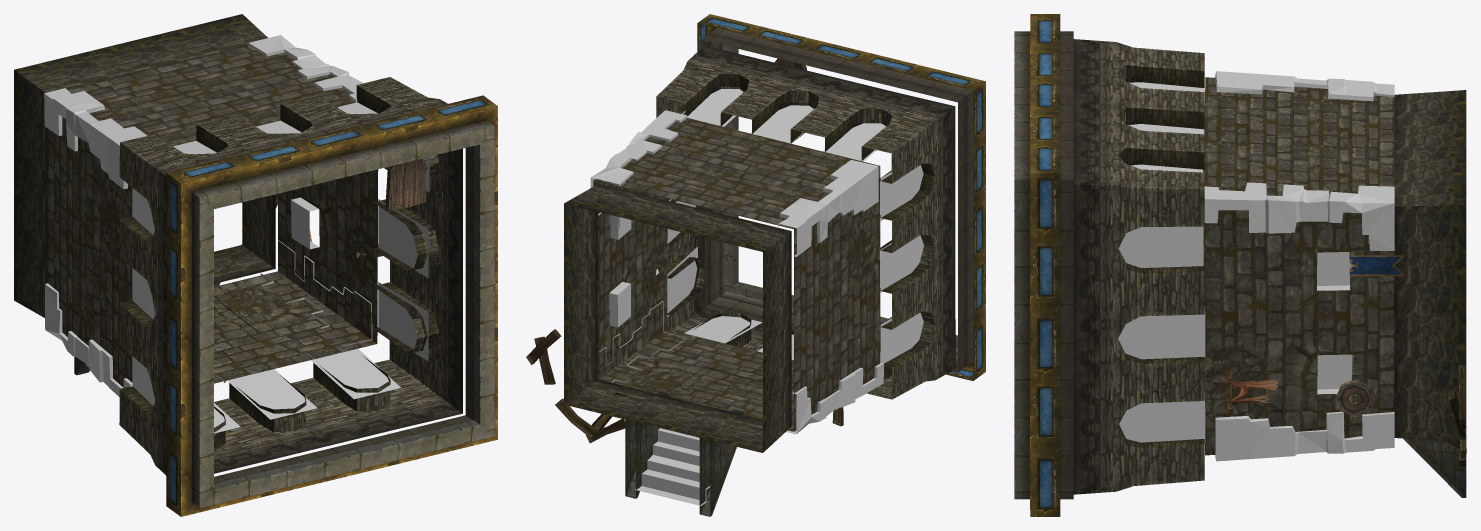
Rendered from juqing_yewai_564_zhucheng03.obj.
The picture shows the model from 3 angles, left to right: view 1: azimuth 30°, elevation 25°; view 2: azimuth 150°, elevation 25°; view 3: azimuth 270°, elevation 25°; orthographic projection. The views are drawn at different scales.
Parts seen in each view (by area): view 1: juqing_yewai_564_zhucheng03; view 2: juqing_yewai_564_zhucheng03; view 3: juqing_yewai_564_zhucheng03.
Part boxes in pixels (x1,y1,x2,y2): juqing_yewai_564_zhucheng03: [14, 14, 497, 516]; juqing_yewai_564_zhucheng03: [526, 14, 985, 516]; juqing_yewai_564_zhucheng03: [1014, 14, 1466, 516].
Size of the model in its own units: 852 by 849 by 910.
